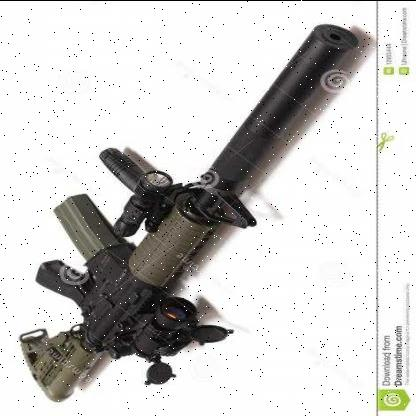rifle: (21, 28, 362, 406)
